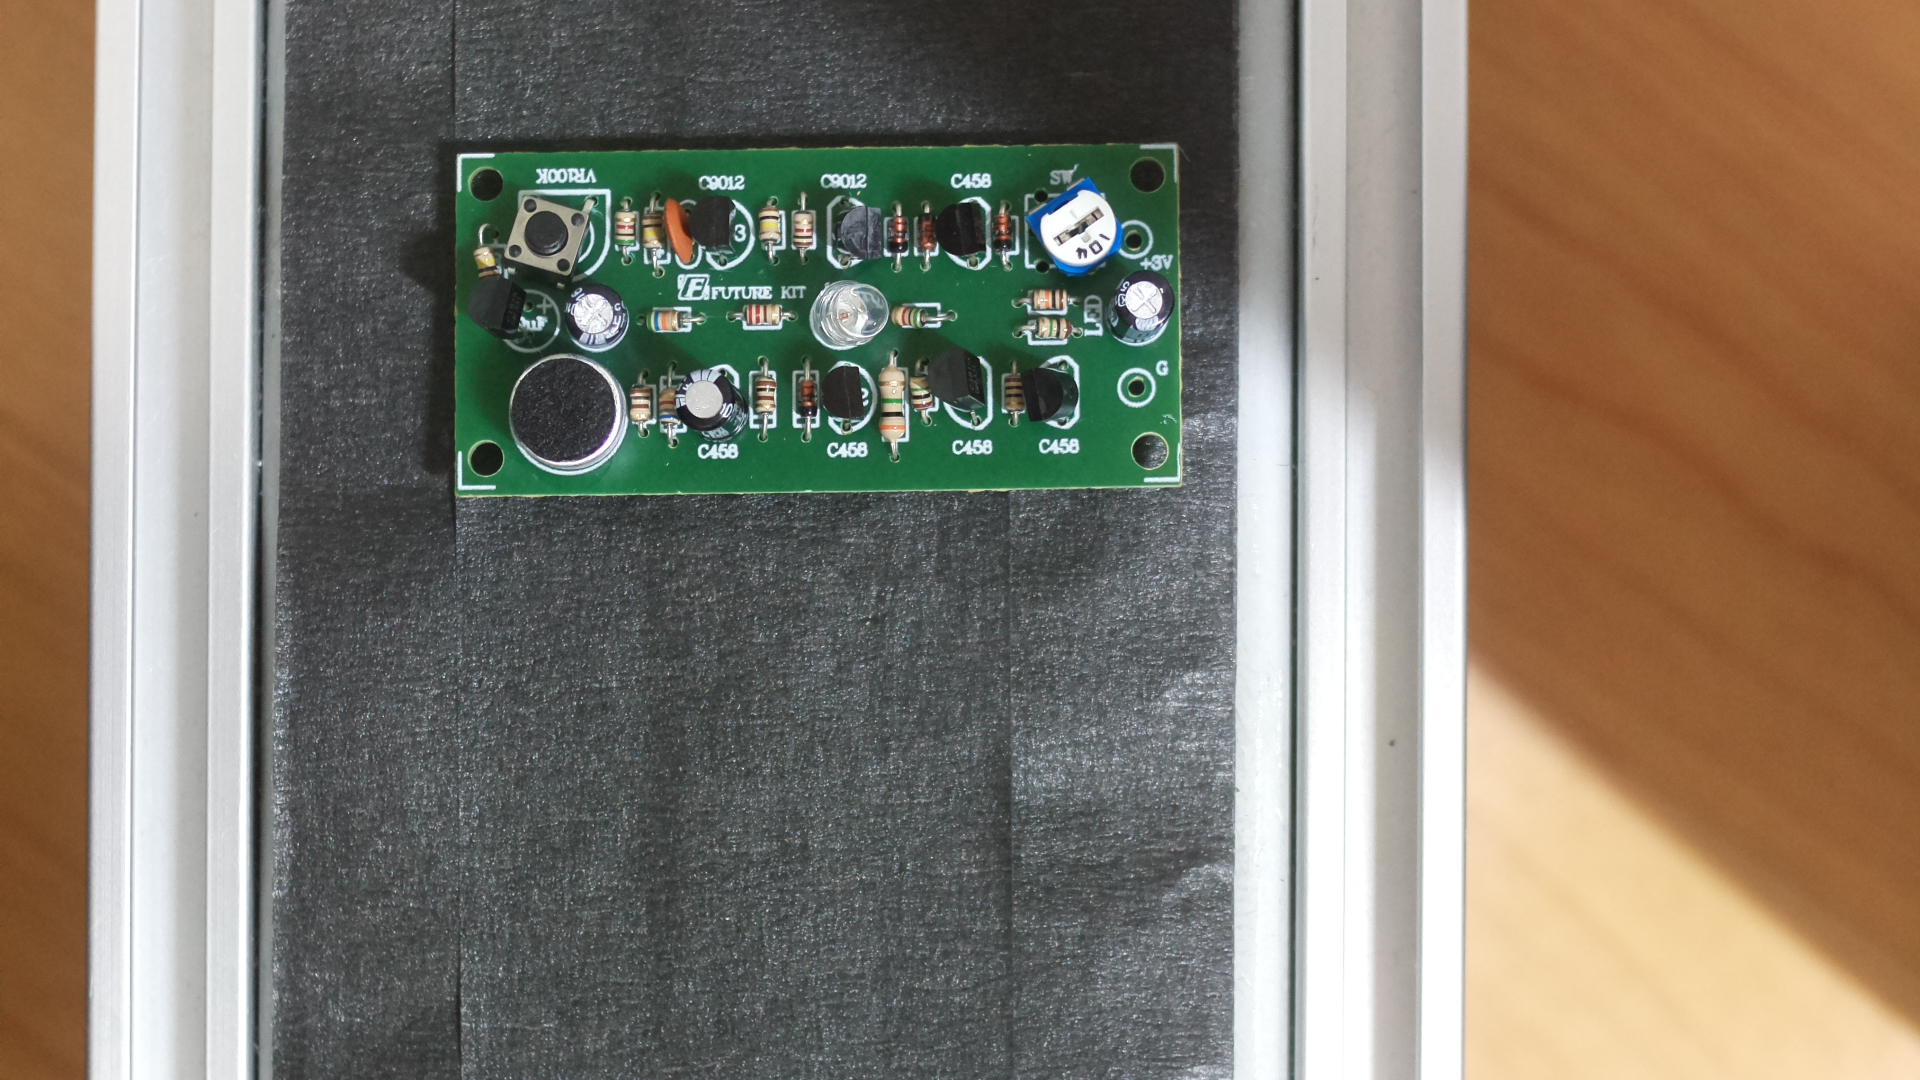A_Misordered: (435, 124, 1201, 513)
